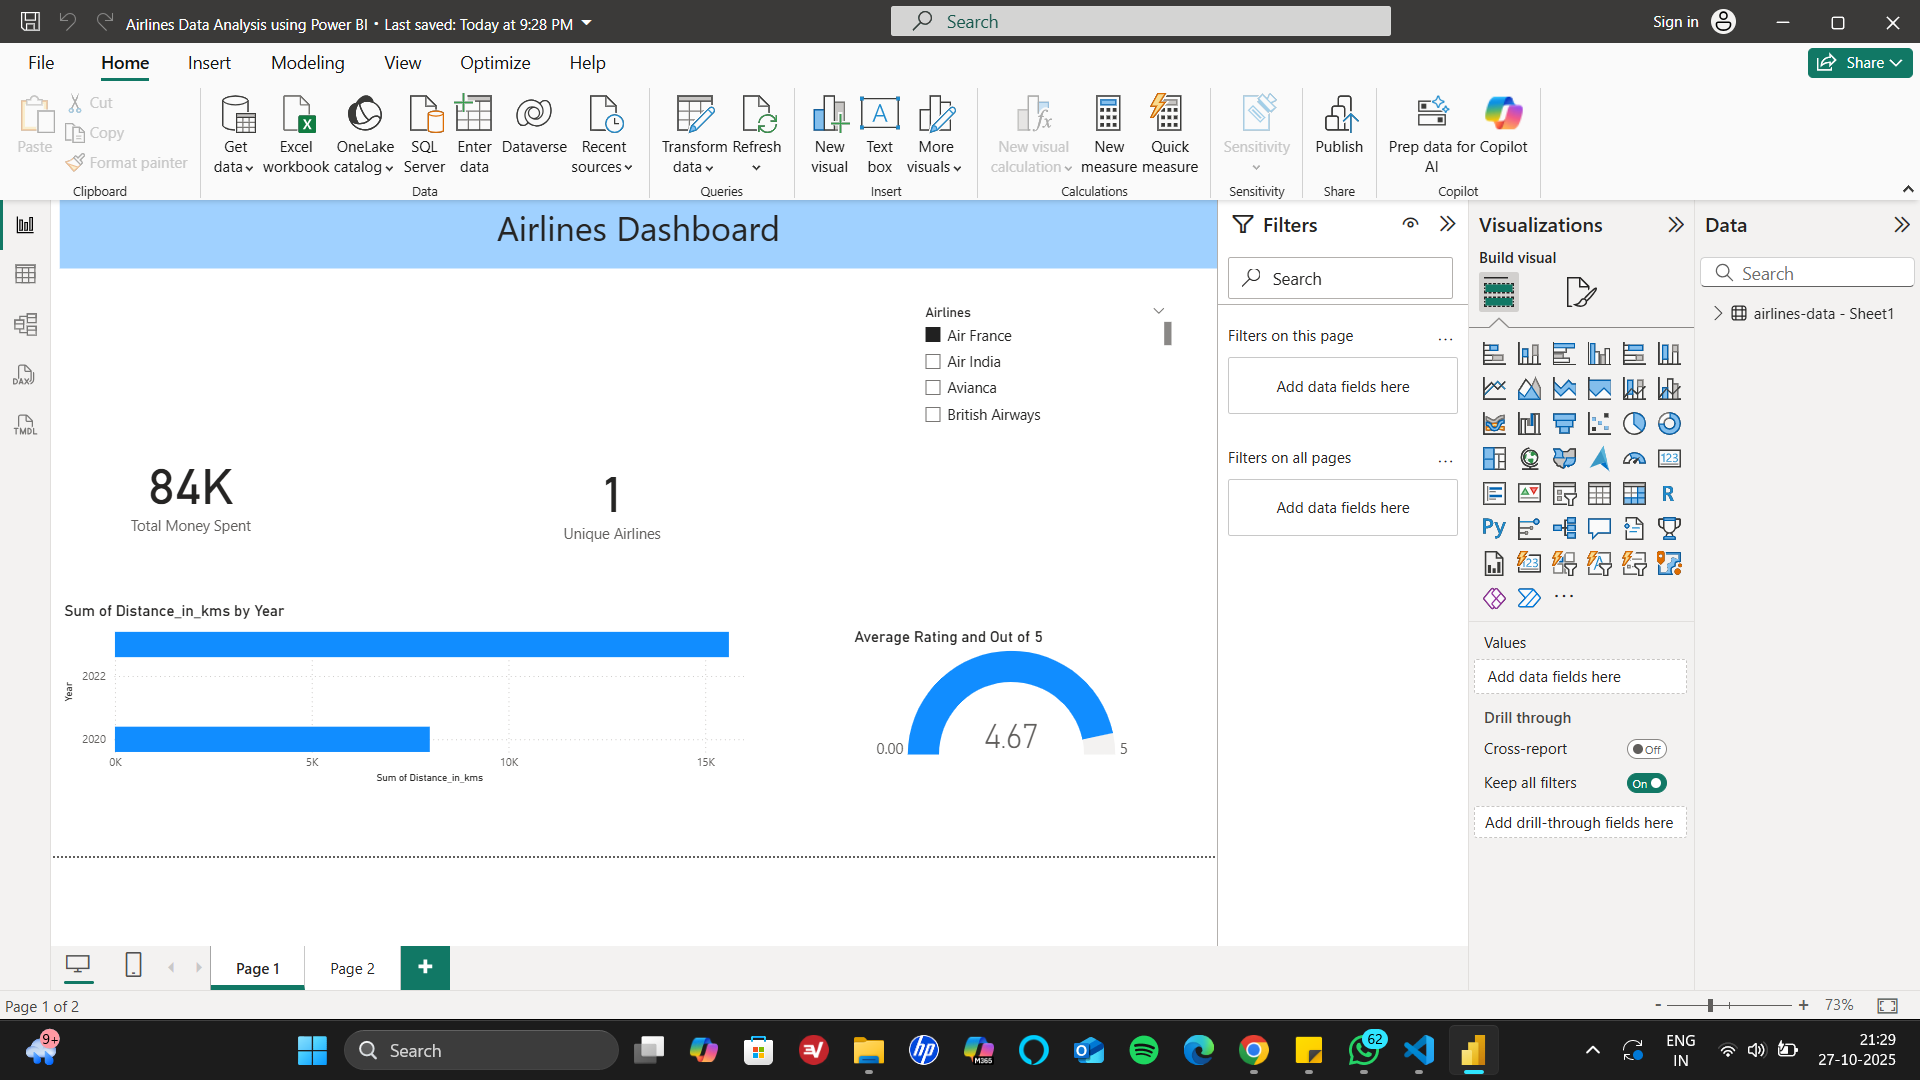

What the dashboard file says about the page in this screenshot:
{"tool":"powerbi","page":{"name":"Page 1","canvas":[1280,720],"ordinal":0},"visuals":[{"type":"textbox","box":[9.6,0,1270.7,75.5],"z":0},{"type":"card","fields":{"Values":["Sum(airlines-data - Sheet1.Cost_in_rupees)"]},"box":[9.6,247,288.2,142.7],"z":1000},{"type":"card","fields":{"Values":["Count(airlines-data - Sheet1.Airlines)"]},"box":[455.6,249.7,321.1,155.1],"z":2000},{"type":"gauge","fields":{"Y":["Avg(airlines-data - Sheet1.Rating_on_5)"],"MaxValue":["Max(airlines-data - Sheet1.Rating_on_5)1"]},"box":[876.8,469.3,334.8,149.6],"z":3000},{"type":"clusteredBarChart","fields":{"Category":["airlines-data - Sheet1.Year"],"Y":["Sum(airlines-data - Sheet1.Distance_in_kms)"]},"box":[9.6,440.5,767.1,204.5],"z":4000},{"type":"slicer","fields":{"Values":["airlines-data - Sheet1.Airlines"]},"box":[946.8,109.8,288.2,149.6],"z":5000}]}

Visuals, with their boxes on the page's 1280x720 design canvas (x1, y1, x2, y2). These are canvas units, not pixel positions in the 1920x1080 screenshot, which may show the page scaled, cropped or inside an application window:
textbox: 10:0:1280:76
card - Sum(airlines-data - Sheet1.Cost_in_rupees): 10:247:298:390
card - Count(airlines-data - Sheet1.Airlines): 456:250:777:405
gauge - Avg(airlines-data - Sheet1.Rating_on_5) x Max(airlines-data - Sheet1.Rating_on_5)1: 877:469:1212:619
clusteredBarChart - airlines-data - Sheet1.Year x Sum(airlines-data - Sheet1.Distance_in_kms): 10:440:777:645
slicer - airlines-data - Sheet1.Airlines: 947:110:1235:259
